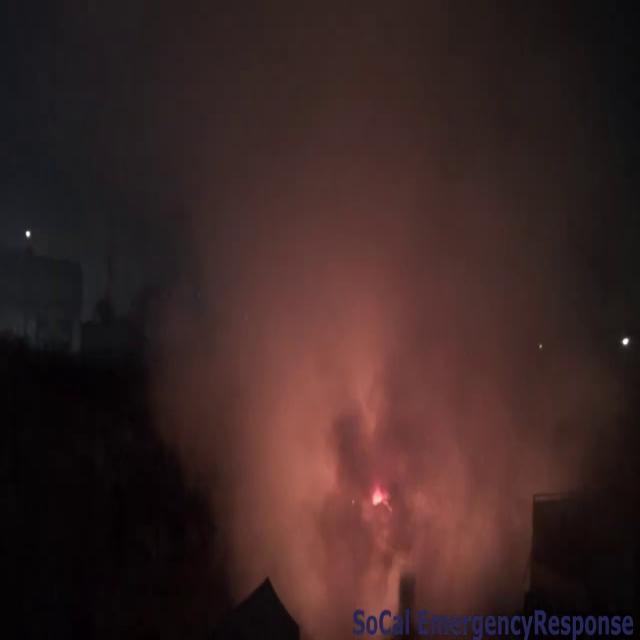Smoke: (126, 1, 614, 612)
